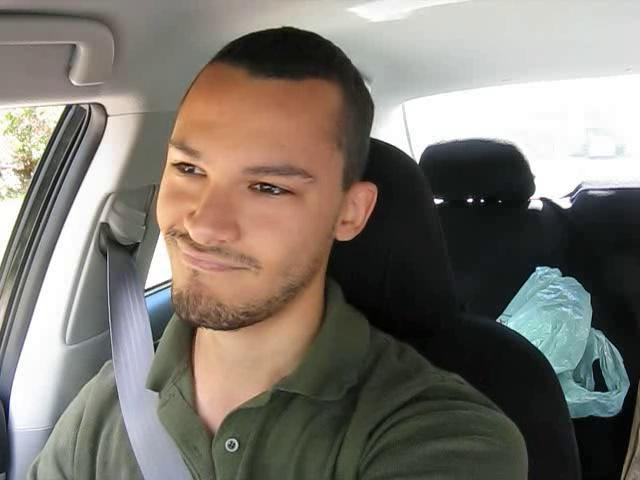no_yawn: (160, 240, 265, 288)
open_eyeL: (157, 148, 220, 192)
open_eyeR: (236, 167, 312, 212)
